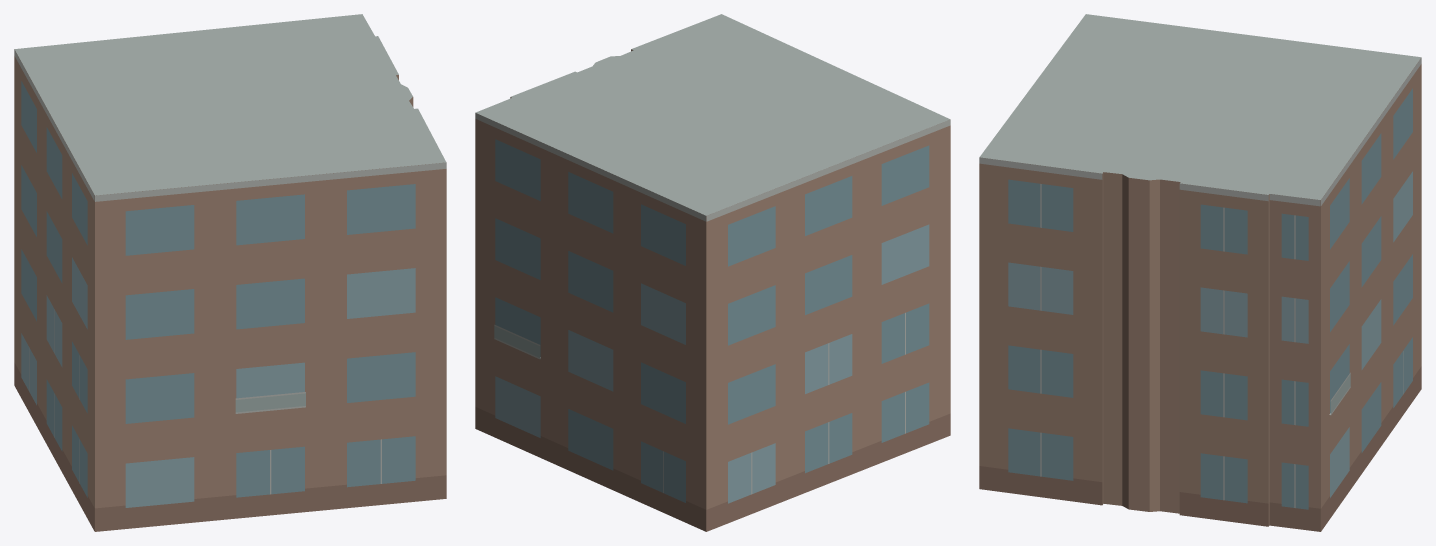
The model's file is survey-upis-32930874.glb.
3 views of the same model, side by side, from view 1: azimuth 30°, elevation 25°; view 2: azimuth 150°, elevation 25°; view 3: azimuth 270°, elevation 25° (orthographic). The views are drawn at different scales.
Visible parts, largest first — view 1: survey-upis-32930874.tmp; view 2: survey-upis-32930874.tmp; view 3: survey-upis-32930874.tmp.
Boxes of the visible parts, box(x1,y1,x2,y2) form: survey-upis-32930874.tmp: box(14, 14, 446, 531); survey-upis-32930874.tmp: box(475, 14, 950, 531); survey-upis-32930874.tmp: box(979, 14, 1421, 531).
Bounding box in the file's own units: 15.53 × 12.9 × 15.6.
